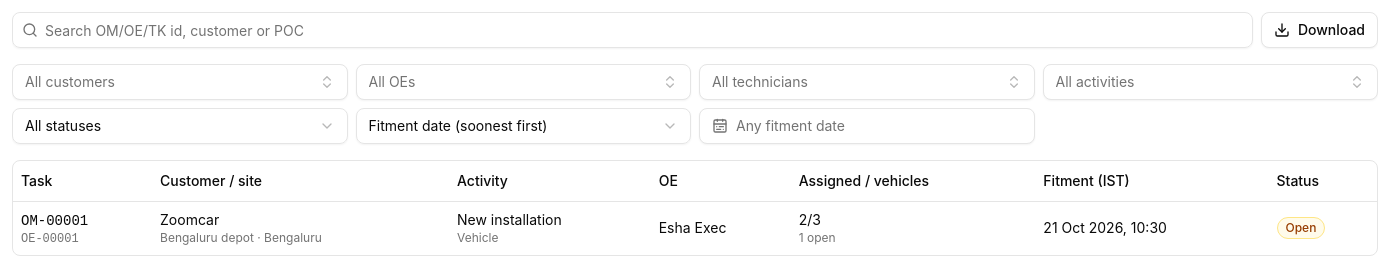
Scenario: TaskTable › Open tasks leaves Completed out of the status filter
Click the dropdown named "Filter by status": (63, 126) x1=12 y1=108 x2=348 y2=144
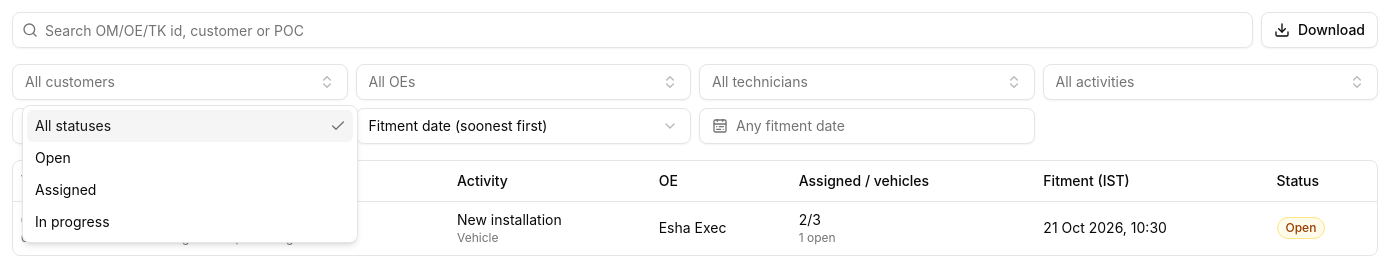
Now the option "In progress" is shown, box x1=35 y1=213 x2=110 y2=230
